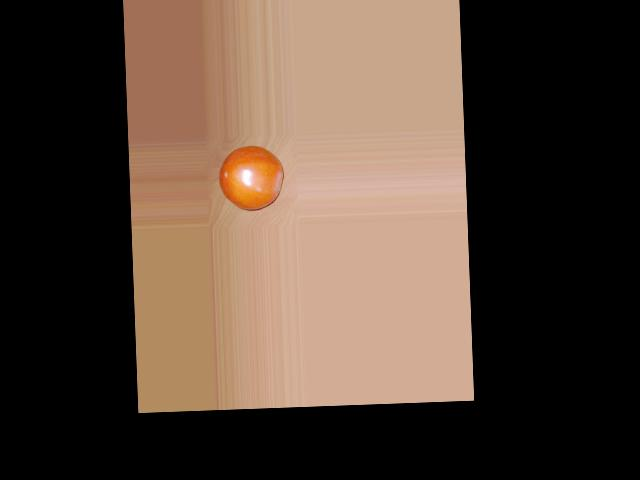tomato: (217, 143, 284, 211)
